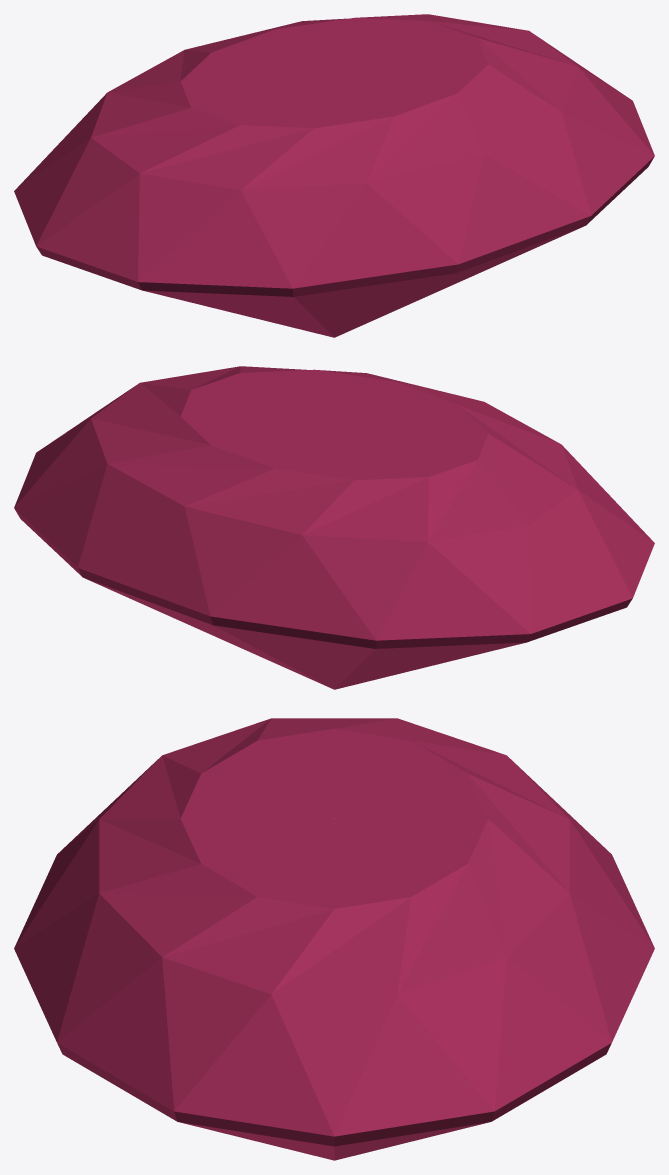
The model's file is jewelry.glb.
The picture shows the model from 3 angles, top to bottom: view 1: azimuth 30°, elevation 25°; view 2: azimuth 150°, elevation 25°; view 3: azimuth 270°, elevation 25°; orthographic projection. The views are drawn at different scales.
Parts seen in each view (by area): view 1: rubellite-tourmaline; view 2: rubellite-tourmaline; view 3: rubellite-tourmaline.
Boxes of the visible parts, bbox=[...] form: rubellite-tourmaline: bbox=[14, 14, 654, 337]; rubellite-tourmaline: bbox=[14, 366, 654, 689]; rubellite-tourmaline: bbox=[14, 718, 654, 1160].
Bounding box in the file's own units: 2.36 × 1 × 1.7.
